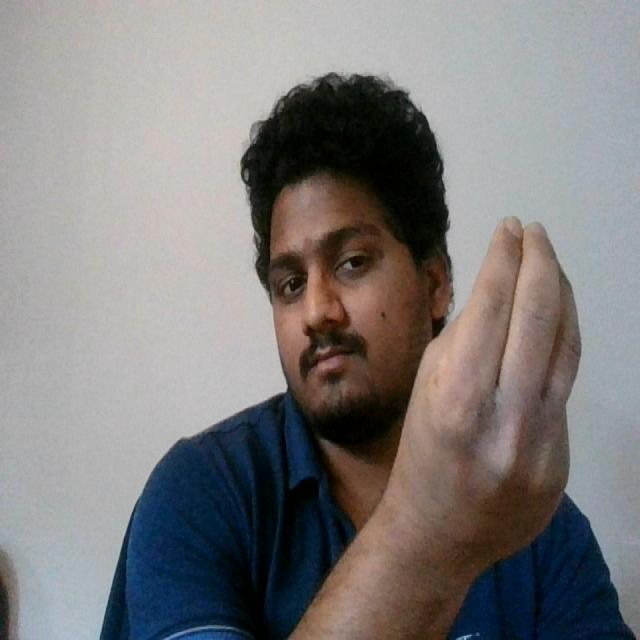Please: (388, 204, 588, 589)
